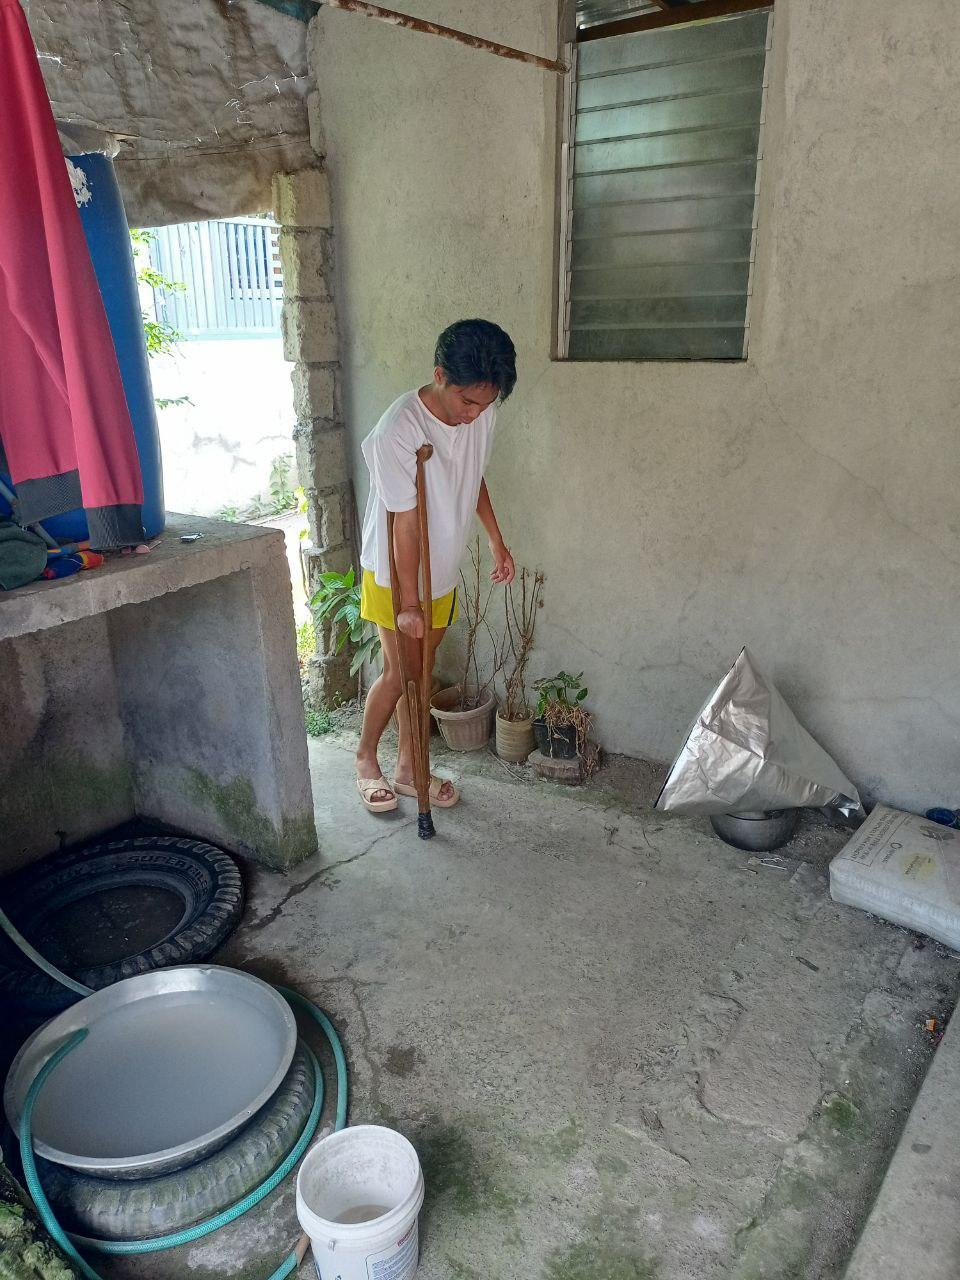crutches: (346, 310, 525, 843)
